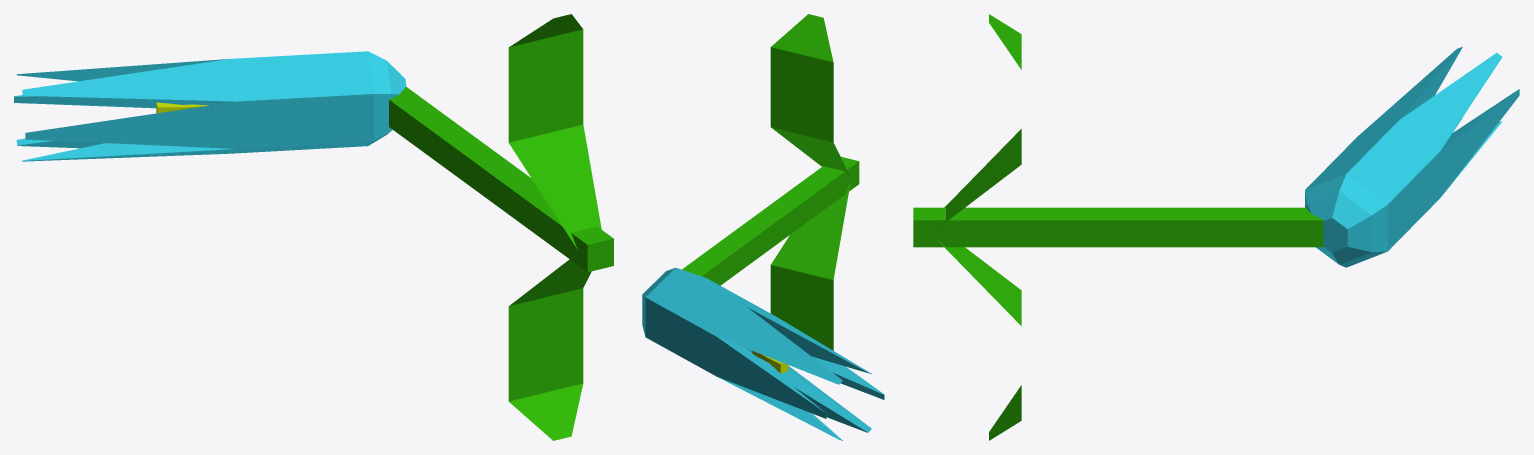
The model's file is Sekasou.fbx.
The picture shows the model from 3 angles, left to right: view 1: azimuth 30°, elevation 25°; view 2: azimuth 150°, elevation 25°; view 3: azimuth 270°, elevation 25°; orthographic projection. The views are drawn at different scales.
Visible parts, largest first — view 1: 平面; view 2: 平面; view 3: 平面.
Boxes of the visible parts, x1,y1,x2,y2 form: 平面: (14, 14, 613, 440); 平面: (642, 14, 884, 440); 平面: (913, 14, 1519, 440).
Size of the model in its own units: 4.18 by 4.87 by 6.4.
